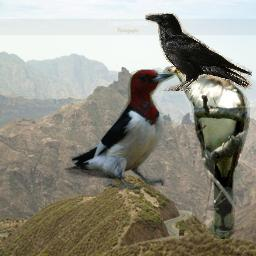Crow: (145, 13, 252, 91)
Cuckoo: (163, 58, 250, 239)
Woodpecker: (64, 69, 176, 190)
